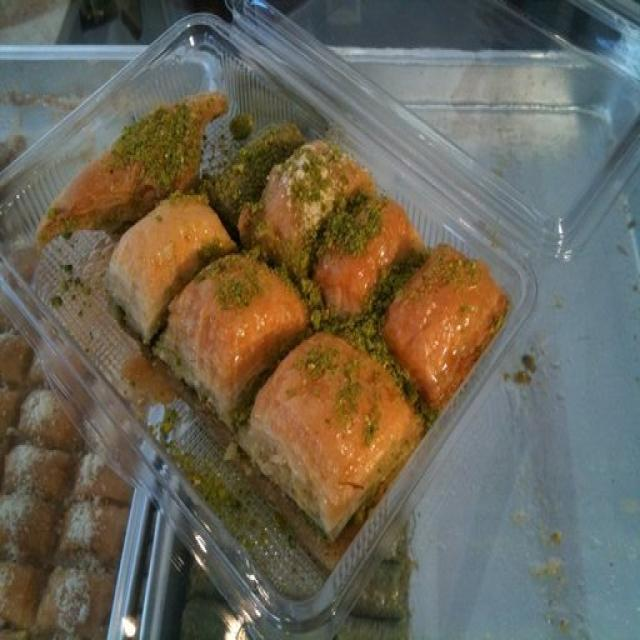Baklawa: (257, 294, 425, 538)
